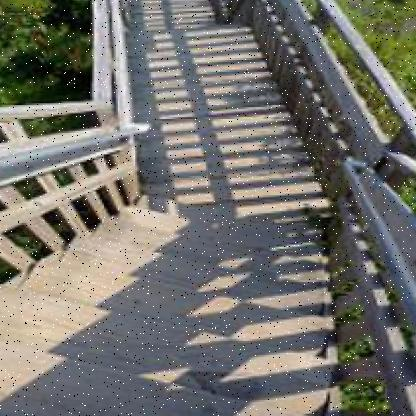stair_down: (0, 251, 265, 409)
